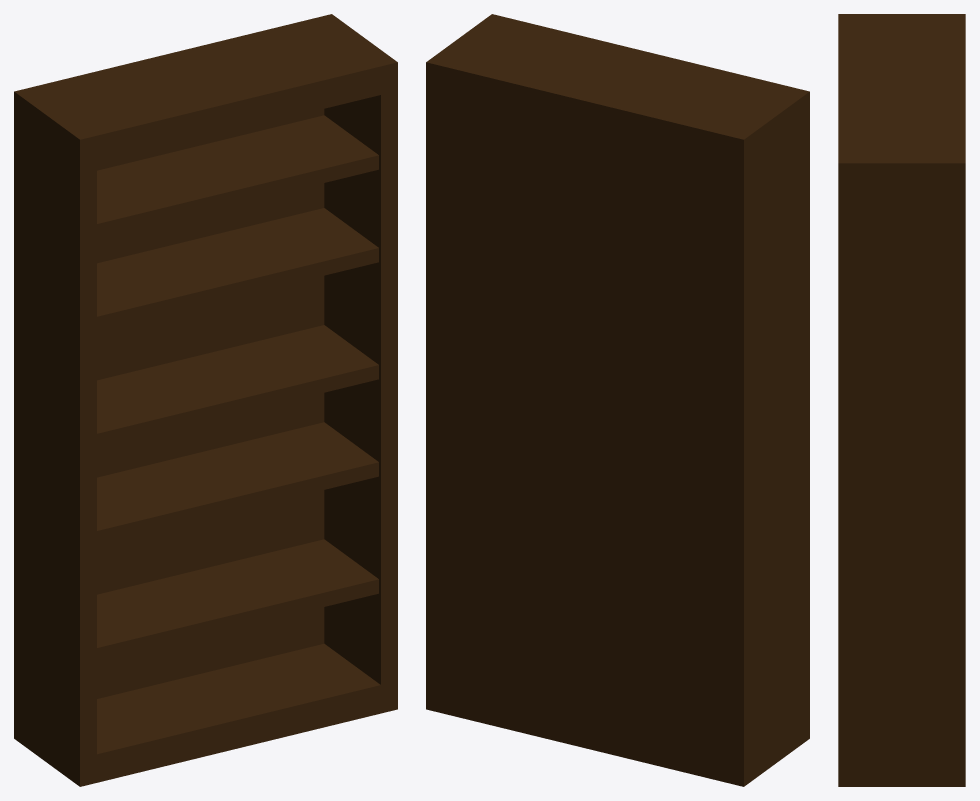
Rendered from Estanteria2.fbx.
3 views of the same model, side by side, from view 1: azimuth 30°, elevation 25°; view 2: azimuth 150°, elevation 25°; view 3: azimuth 270°, elevation 25° (orthographic). The views are drawn at different scales.
Visible parts, largest first — view 1: Estanteria3.001; view 2: Estanteria3.001; view 3: Estanteria3.001.
Part boxes in pixels (left/top/right/bottom): Estanteria3.001: left=14, top=14, right=397, bottom=786; Estanteria3.001: left=426, top=14, right=809, bottom=786; Estanteria3.001: left=838, top=14, right=965, bottom=786.
Bounding box in the file's own units: 103 × 201 × 37.12.
